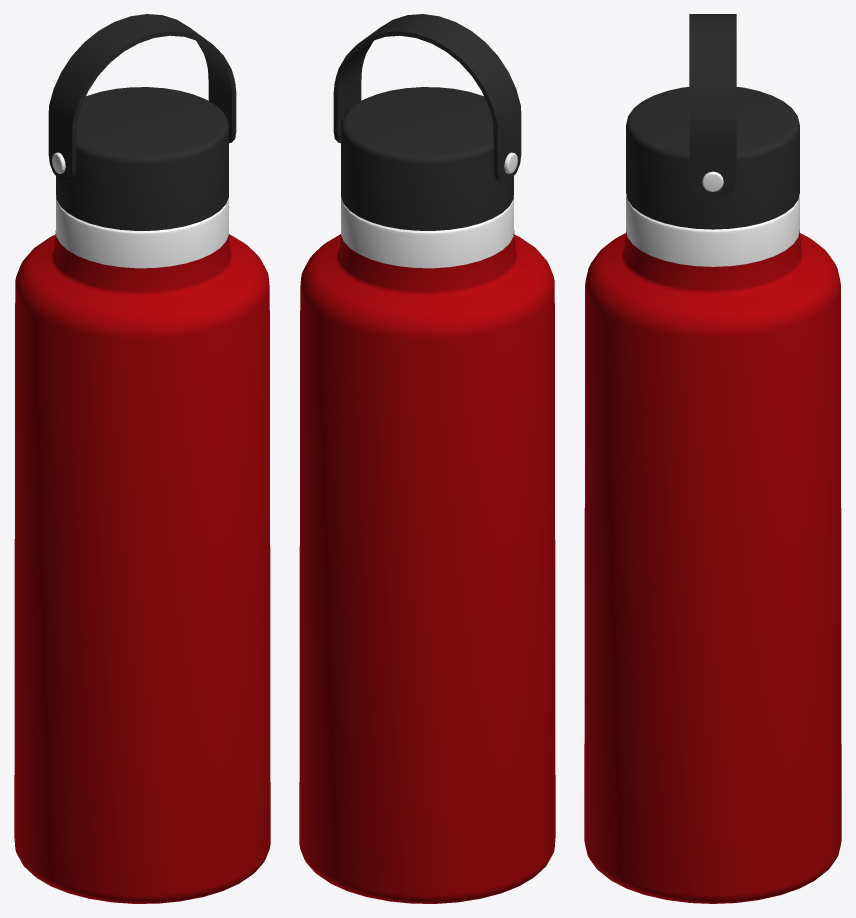
File: water_bottle.glb
The picture shows the model from 3 angles, left to right: view 1: azimuth 30°, elevation 25°; view 2: azimuth 150°, elevation 25°; view 3: azimuth 270°, elevation 25°; orthographic projection.
Parts seen in each view (by area): view 1: Bottle, Cap, Cylinder.002; view 2: Bottle, Cap, Cylinder.002; view 3: Bottle, Cap, Cylinder.002.
Part boxes in pixels (left/top/right/bottom): Bottle: left=14, top=196, right=270, bottom=903; Cap: left=56, top=87, right=228, bottom=230; Cylinder.002: left=48, top=14, right=236, bottom=182; Bottle: left=299, top=196, right=555, bottom=903; Cap: left=341, top=87, right=513, bottom=230; Cylinder.002: left=333, top=14, right=521, bottom=182; Bottle: left=584, top=195, right=841, bottom=903; Cap: left=626, top=87, right=799, bottom=229; Cylinder.002: left=689, top=14, right=736, bottom=198.
Bounding box in the file's own units: 2 × 7.14 × 2.
